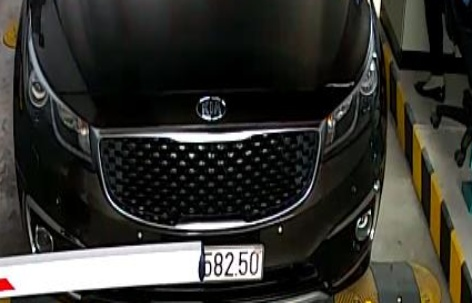plate: (188, 224, 277, 286)
